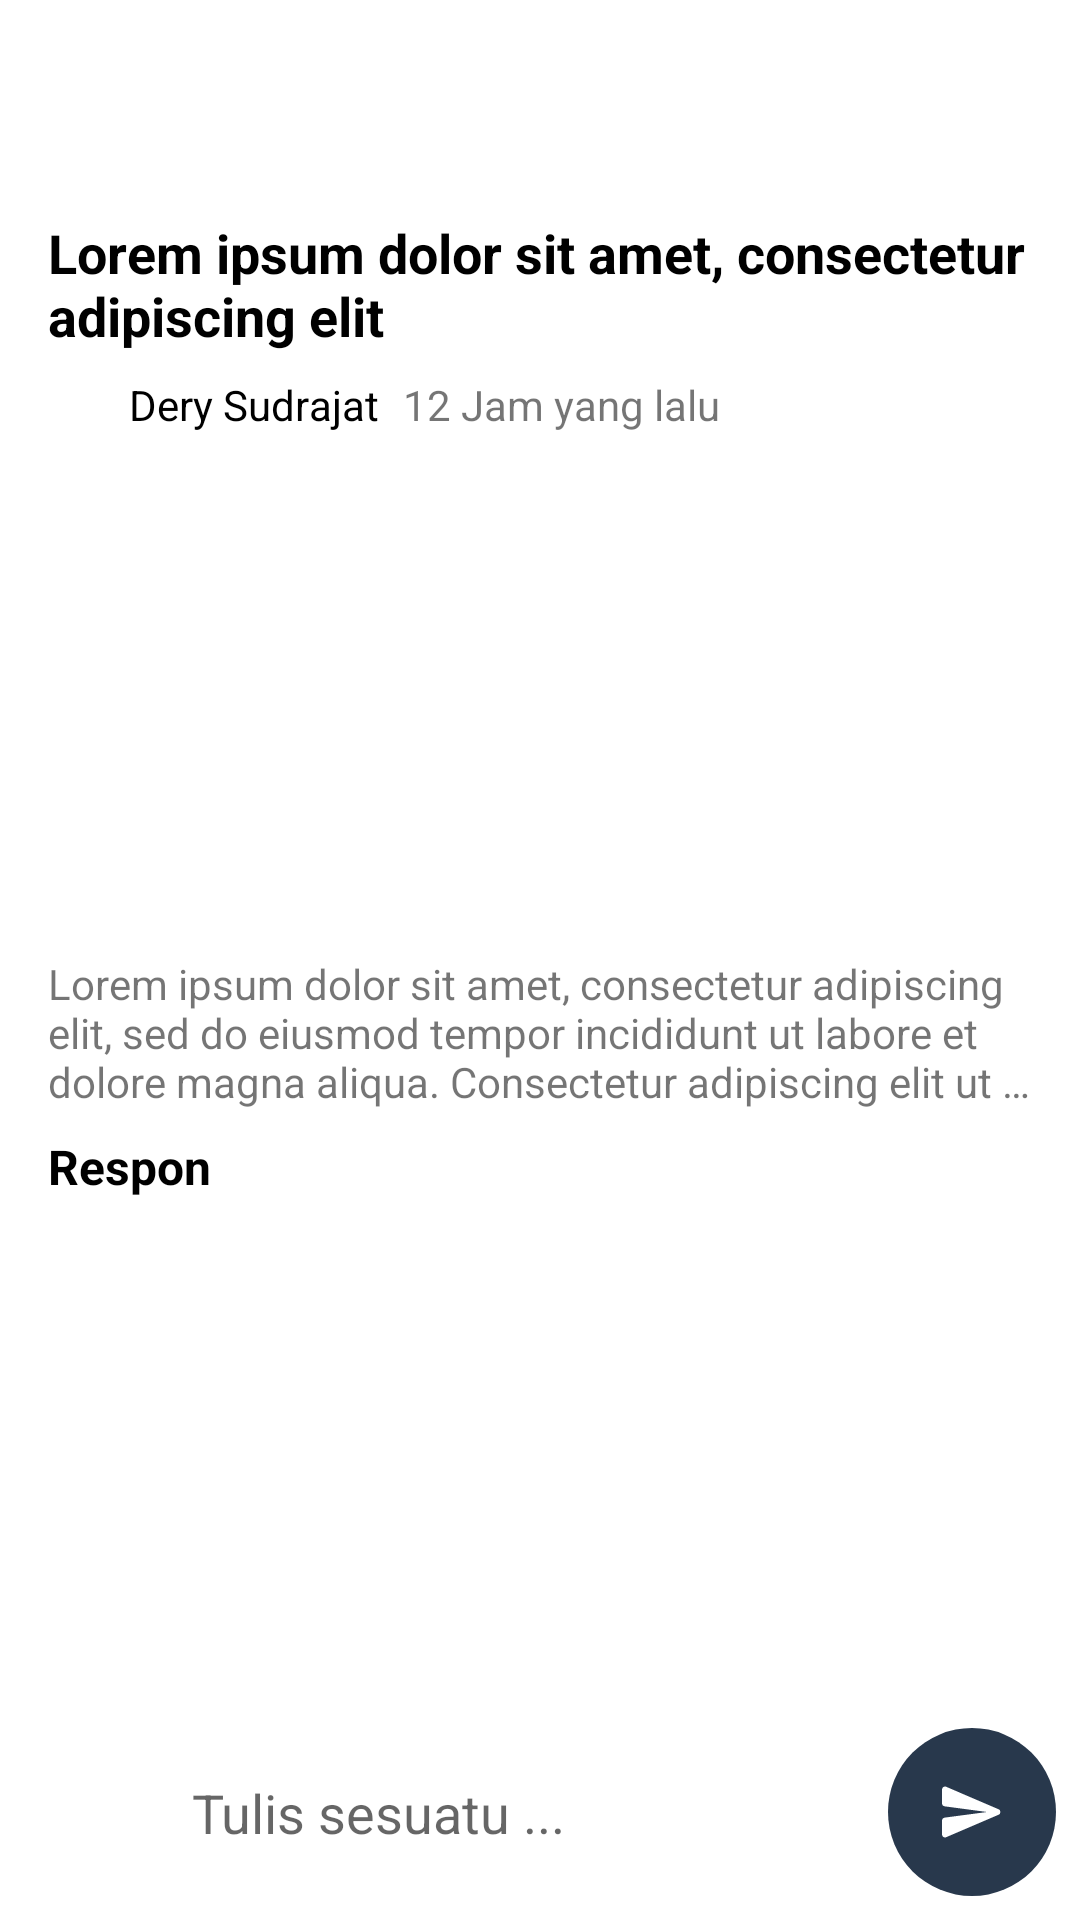

Icons on this 1080*1920 Android screen, each with the point to tap as (x=x, y=y):
send: (x=972, y=1812)
